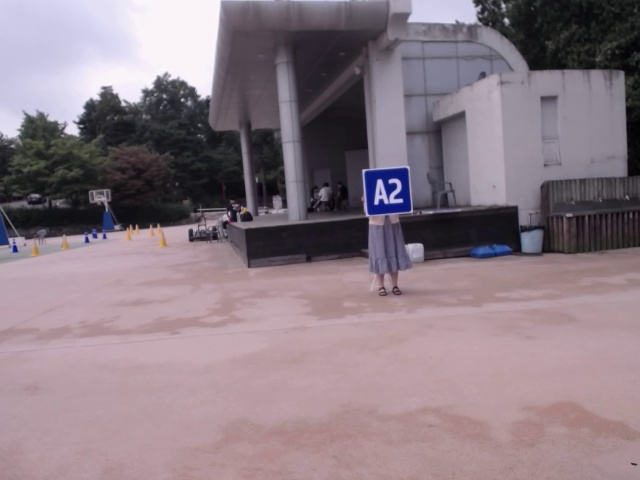delivery_a2: (363, 166, 412, 216)
